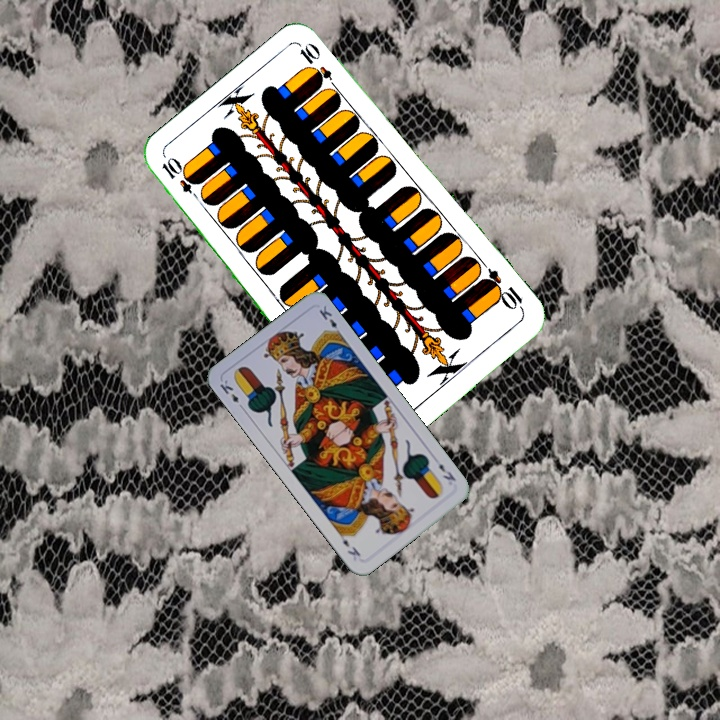E10: (478, 265, 527, 315), (158, 154, 205, 205)
EK: (215, 376, 247, 413), (435, 459, 459, 484)
